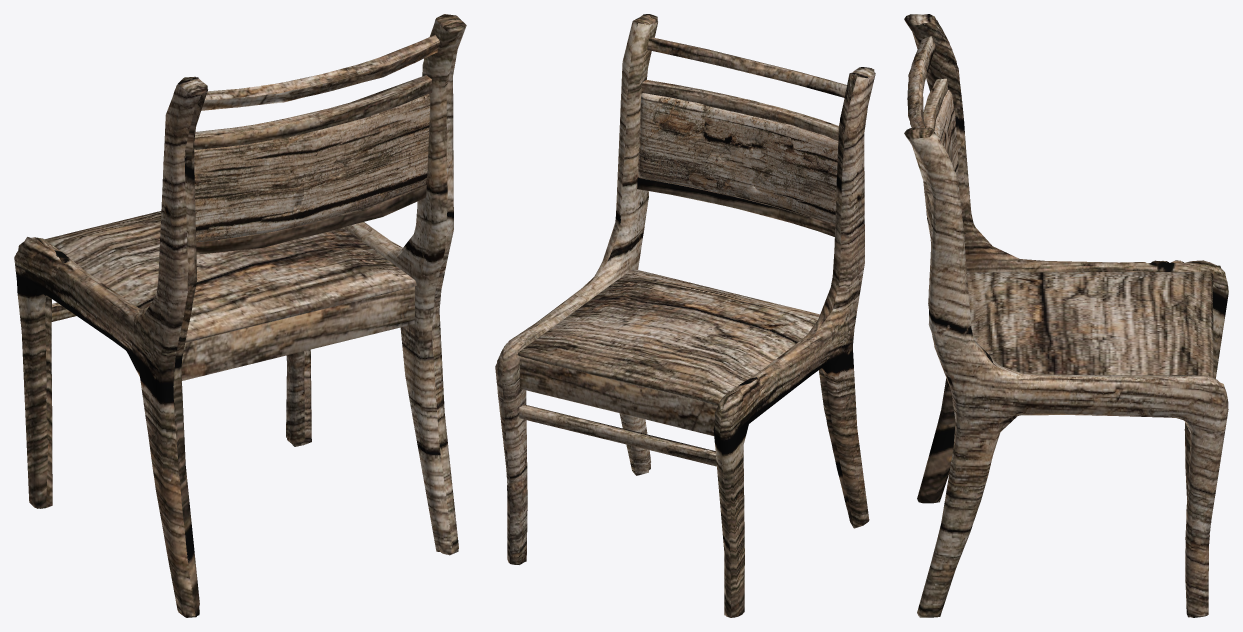
Rendered from chair1.obj.
3 renders of one model, left to right at view 1: azimuth 30°, elevation 25°; view 2: azimuth 150°, elevation 25°; view 3: azimuth 270°, elevation 25°, orthographic. The views are drawn at different scales.
Parts seen in each view (by area): view 1: Chair_low_LOD3_Chair_low_001, Chair_low_LOD0_Chair_low, Chair_low_LOD2_Chair_low_002, Chair_low_LOD1_Chair_low_003; view 2: Chair_low_LOD3_Chair_low_001, Chair_low_LOD0_Chair_low, Chair_low_LOD2_Chair_low_002, Chair_low_LOD1_Chair_low_003; view 3: Chair_low_LOD3_Chair_low_001, Chair_low_LOD0_Chair_low, Chair_low_LOD2_Chair_low_002, Chair_low_LOD1_Chair_low_003.
Part boxes in pixels (x1=…): Chair_low_LOD3_Chair_low_001: x1=14, y1=14, x2=458, y2=615; Chair_low_LOD0_Chair_low: x1=16, y1=16, x2=465, y2=617; Chair_low_LOD2_Chair_low_002: x1=16, y1=15, x2=466, y2=617; Chair_low_LOD1_Chair_low_003: x1=16, y1=15, x2=464, y2=616; Chair_low_LOD3_Chair_low_001: x1=495, y1=21, x2=869, y2=616; Chair_low_LOD0_Chair_low: x1=497, y1=14, x2=874, y2=617; Chair_low_LOD2_Chair_low_002: x1=497, y1=14, x2=875, y2=616; Chair_low_LOD1_Chair_low_003: x1=497, y1=14, x2=874, y2=617; Chair_low_LOD3_Chair_low_001: x1=908, y1=14, x2=1228, y2=617; Chair_low_LOD0_Chair_low: x1=904, y1=14, x2=1228, y2=617; Chair_low_LOD2_Chair_low_002: x1=908, y1=14, x2=1228, y2=617; Chair_low_LOD1_Chair_low_003: x1=906, y1=14, x2=1228, y2=617.
Size of the model in its own units: 0.4486 by 0.8144 by 0.4926.
Materials: 2 (2 with a texture image).
